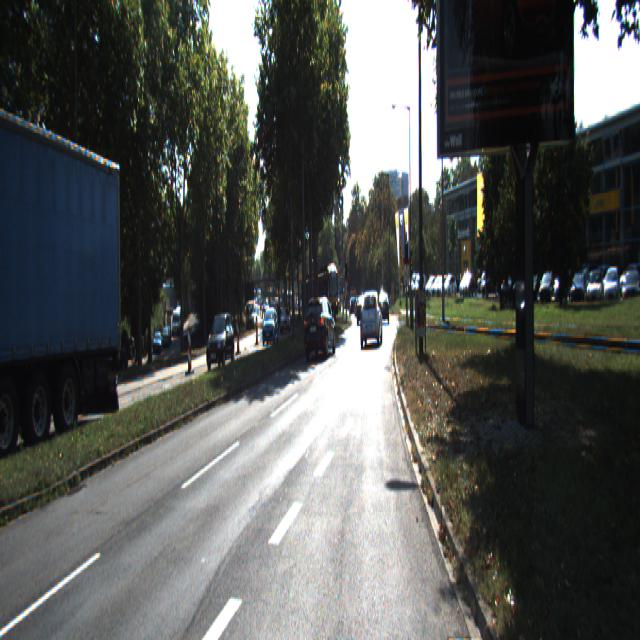Car: (0, 119, 128, 487), (302, 295, 336, 360), (206, 313, 236, 371), (306, 269, 338, 322), (360, 291, 382, 347), (263, 308, 279, 346), (357, 296, 367, 324)
